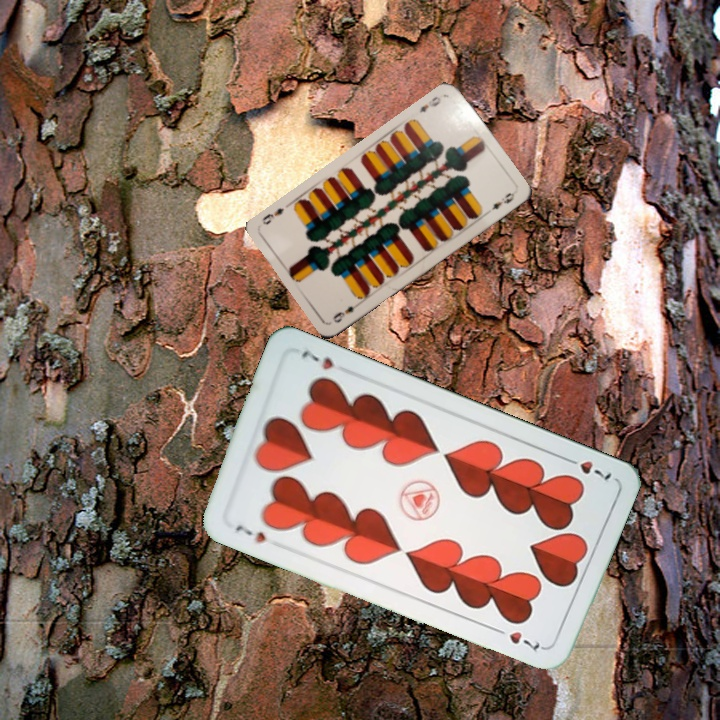E9: (329, 299, 363, 325), (415, 92, 444, 115)
H7: (559, 453, 614, 484), (231, 521, 269, 546)
